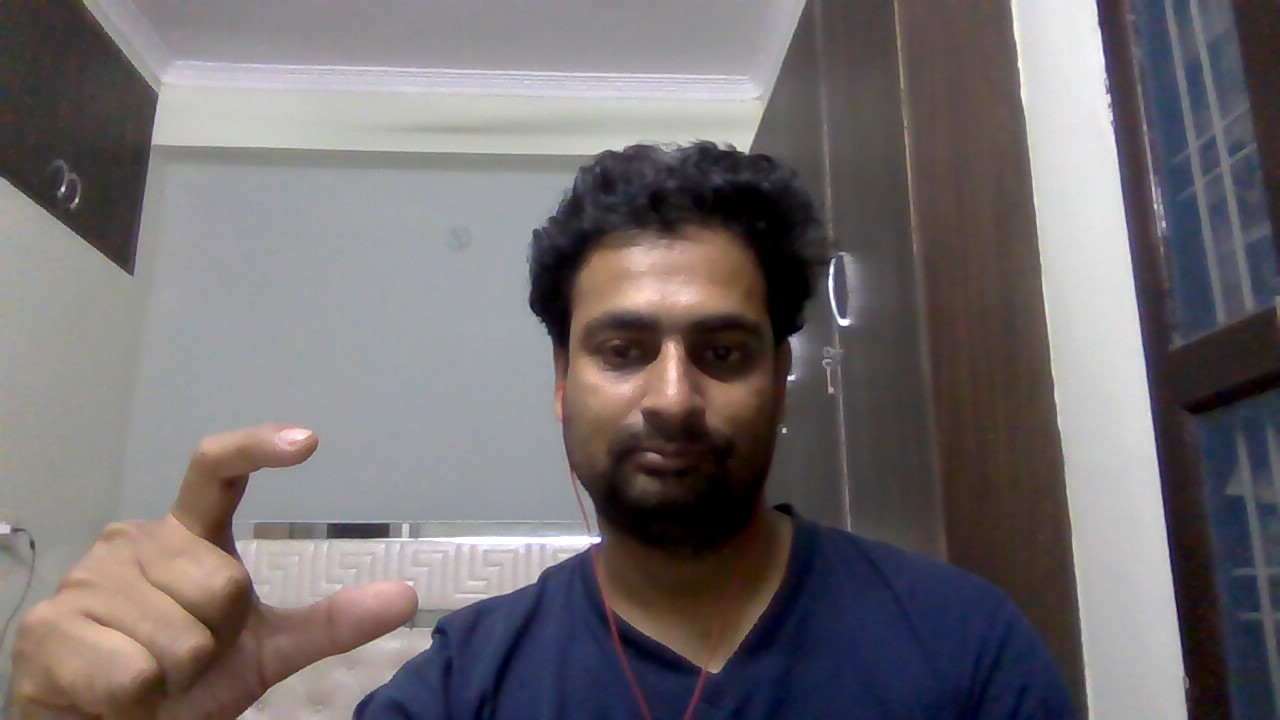Paste: (10, 415, 440, 716)
